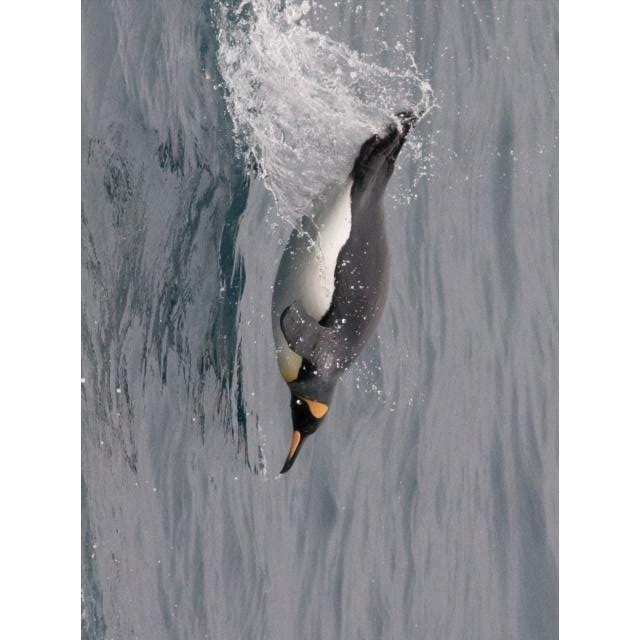penguin: (270, 111, 418, 477)
